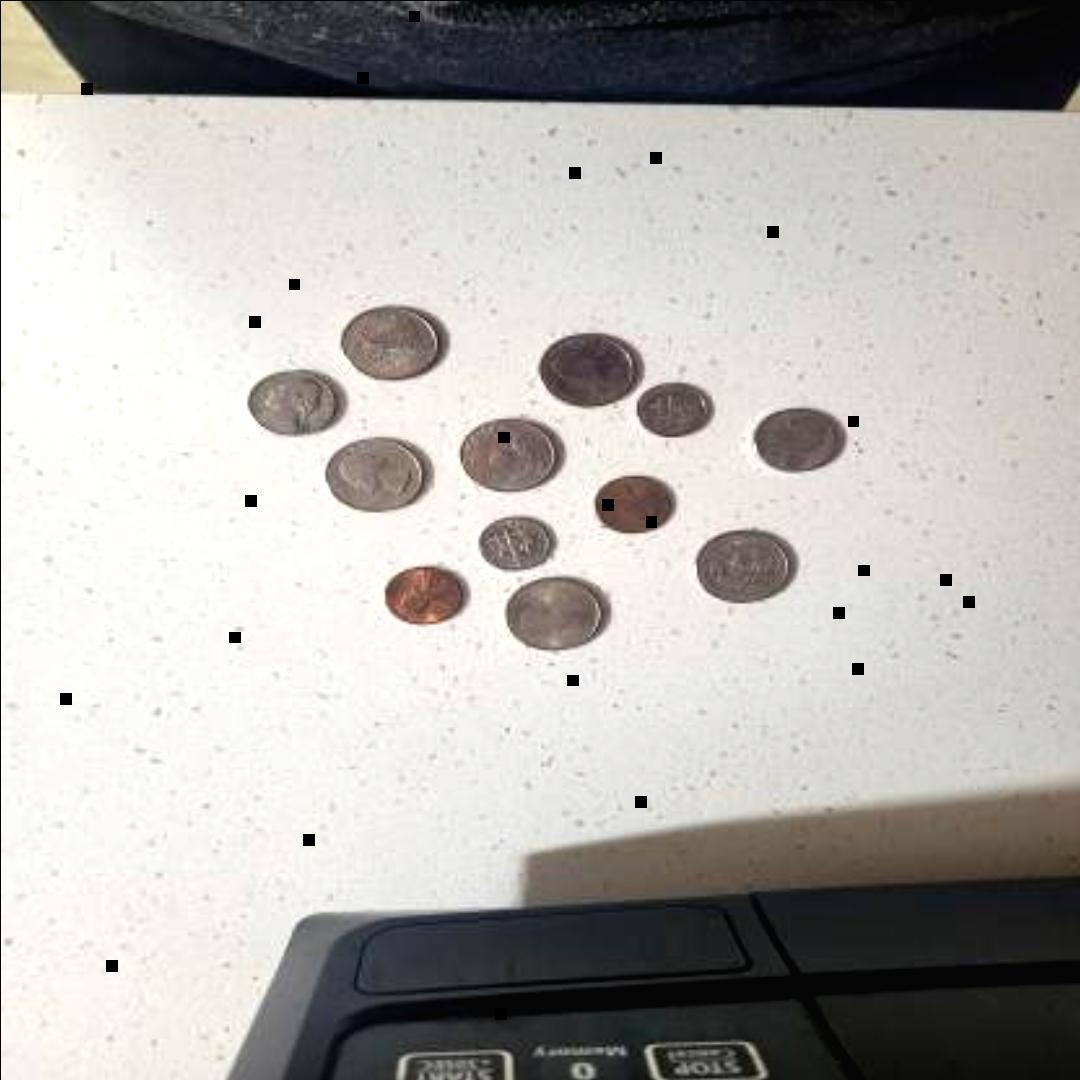Dime: (634, 381, 716, 437), (476, 516, 558, 570)
Nickel: (751, 406, 845, 476), (248, 368, 334, 440)
Penny: (380, 564, 470, 628), (592, 474, 675, 534)
Quarter: (340, 304, 442, 382), (538, 332, 636, 410), (697, 528, 791, 608), (461, 418, 559, 494), (326, 438, 426, 512), (503, 580, 606, 650)
